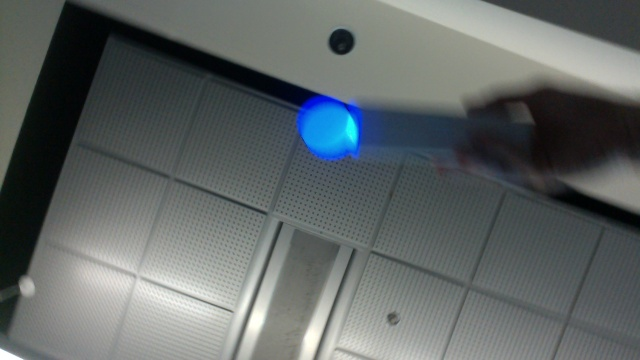wand: (298, 100, 358, 155)
